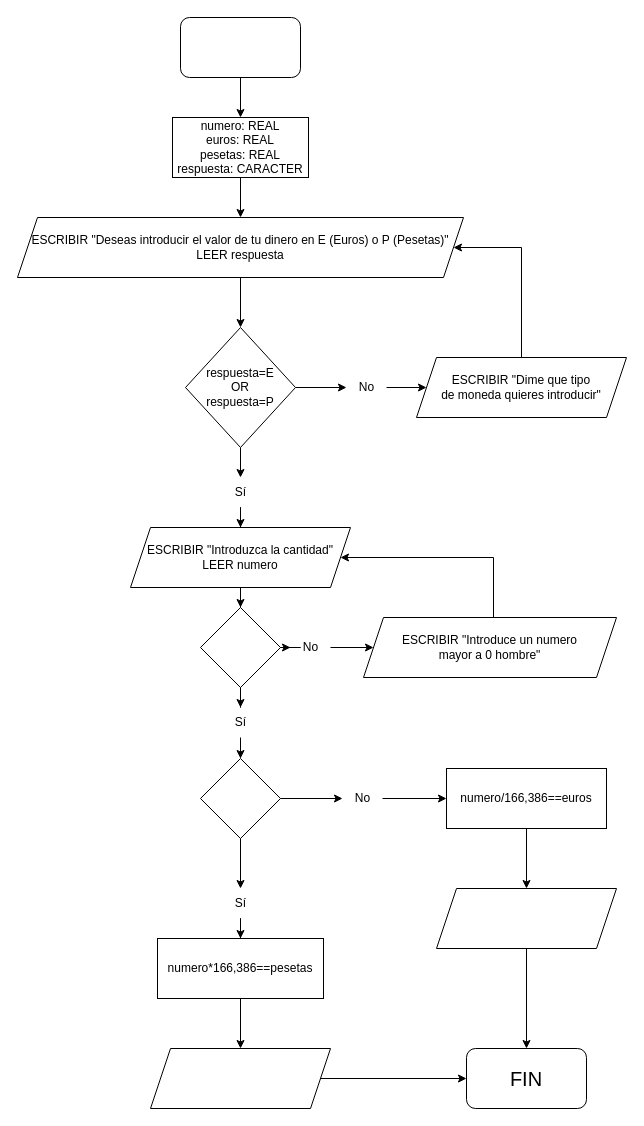
Some shapes in this 644 by 1126 pixel diagram are drawn without their labels. The shapes that lost their labels are listed below. From the top down, each one's box as (x1, y1, x2, y2) in pixels, then its label:
(180, 16, 300, 78): INICIO
(200, 606, 280, 688): numero>0
(200, 758, 280, 838): respuesta=E
(436, 888, 616, 948): ESCRIBIR numero" pesetas son "euros" euros"
(150, 1048, 330, 1108): ESCRIBIR numero" euros son "pesetas" pesetas"
